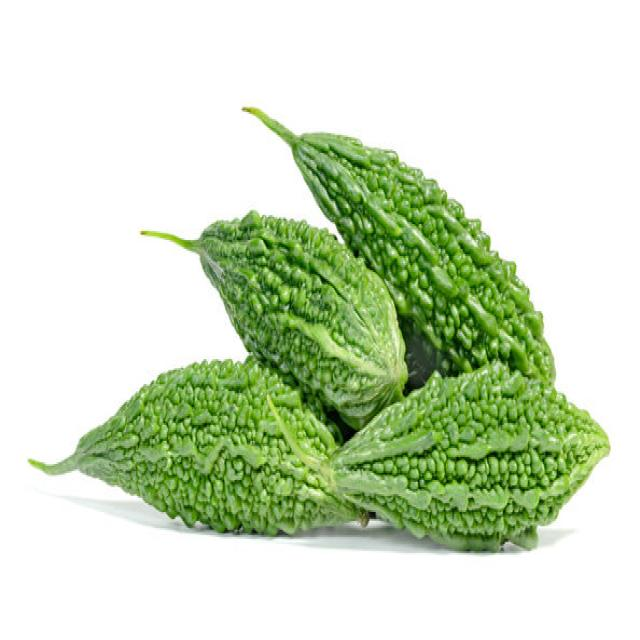Bitter_Gourd: (28, 103, 610, 553)
